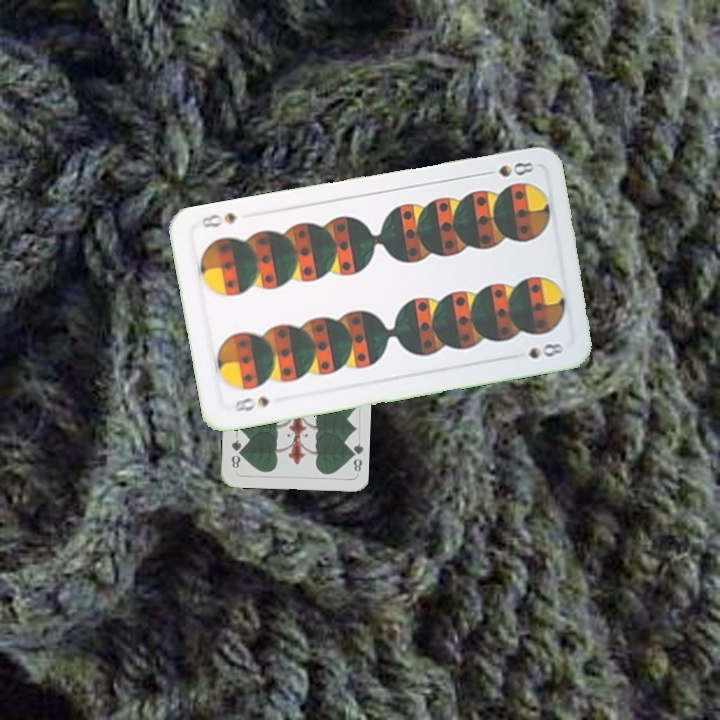G8: (345, 439, 365, 476)
S8: (494, 158, 537, 180), (231, 392, 272, 414)
